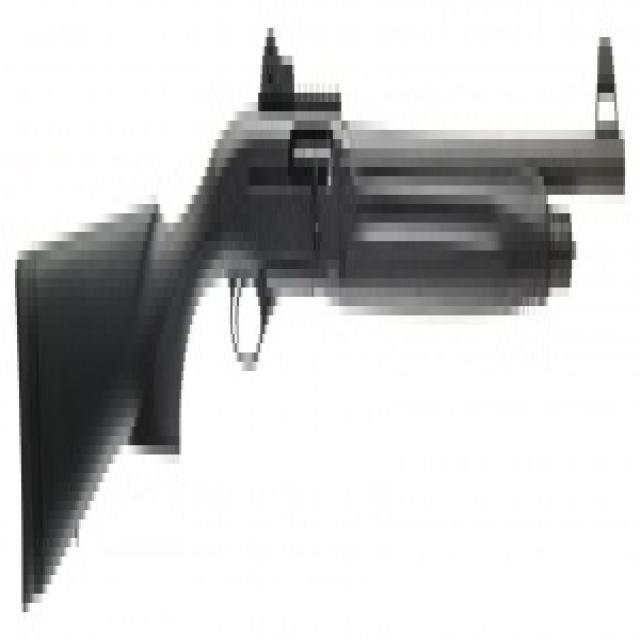rifle: (14, 9, 631, 623)
